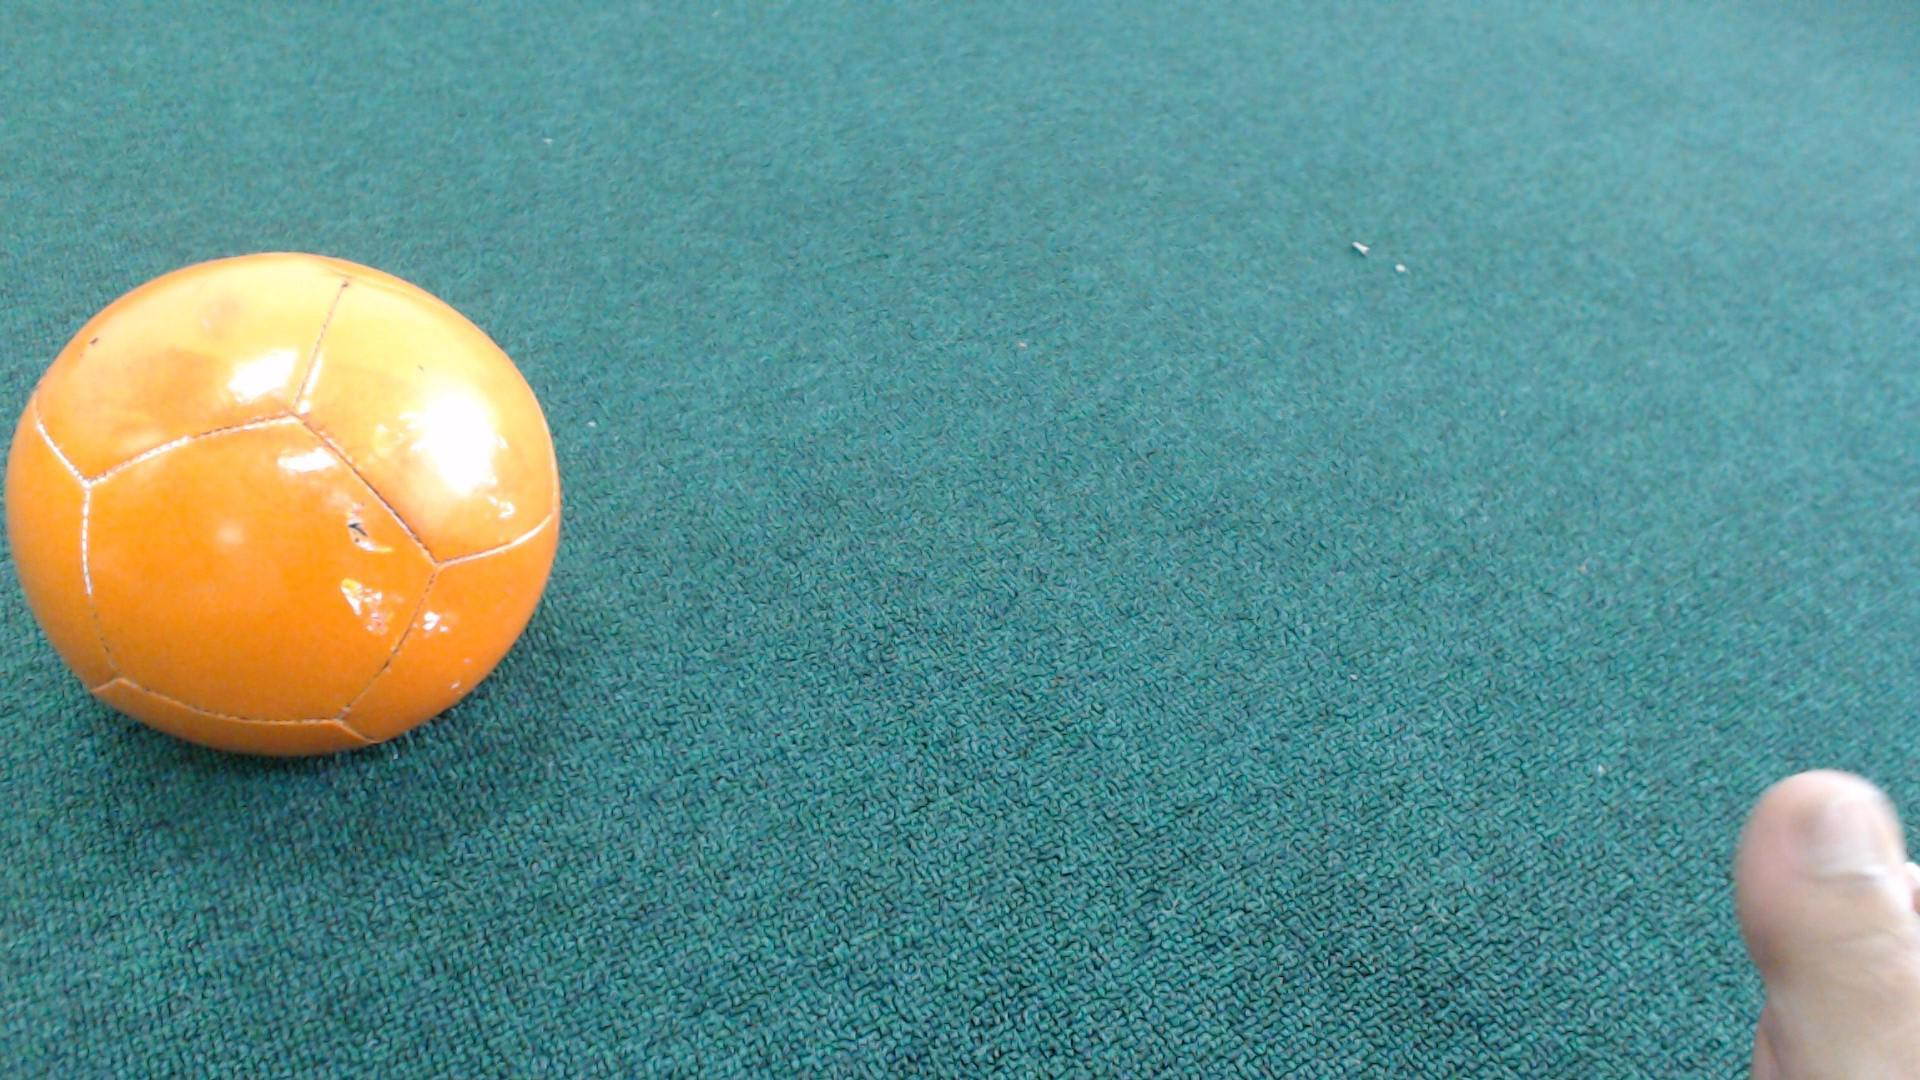bola: (0, 199, 592, 859)
